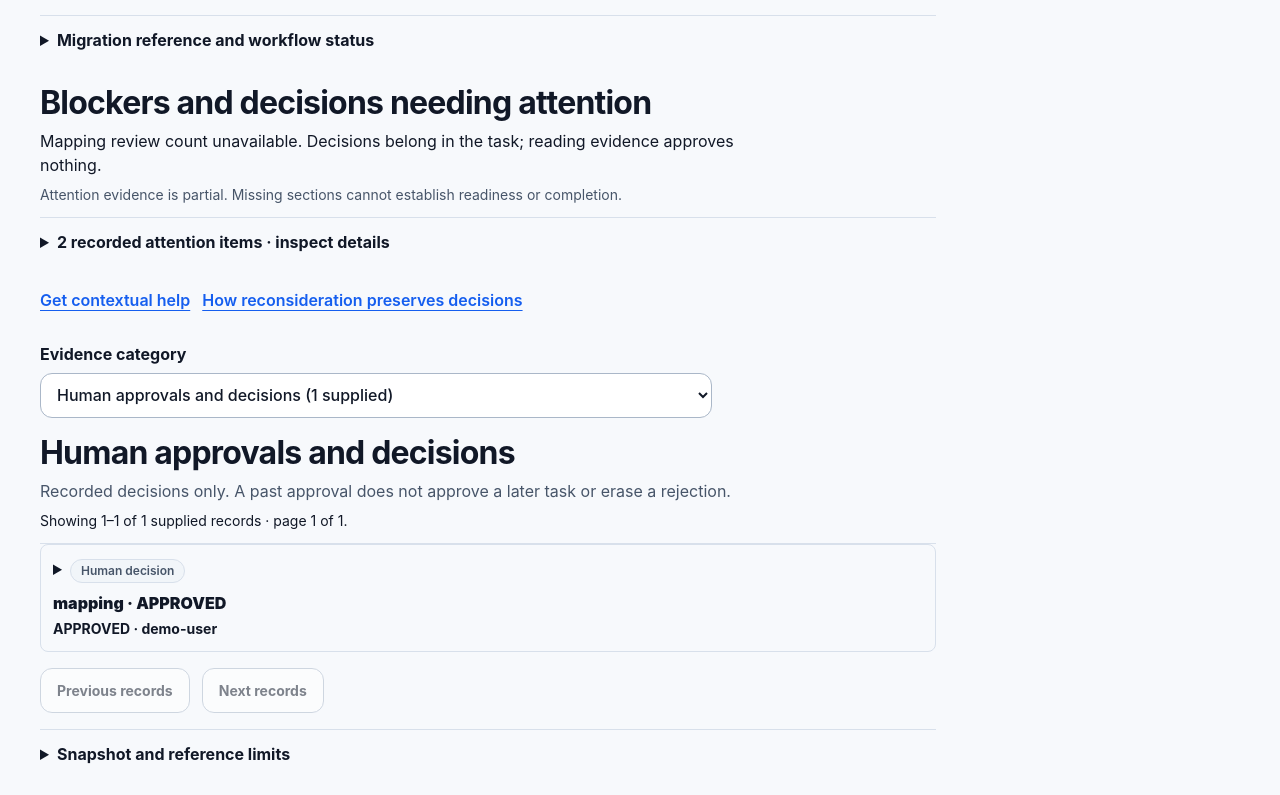
public surface contracts › shows actual Trust activity, decisions, tools and checks, but never hidden payload fields
(page scrolled)
Select "Agent activity and tools (1 supplied)" in the dropdown labelled "Evidence category". click: x=376, y=395
box: left=40, top=373, right=712, bottom=418
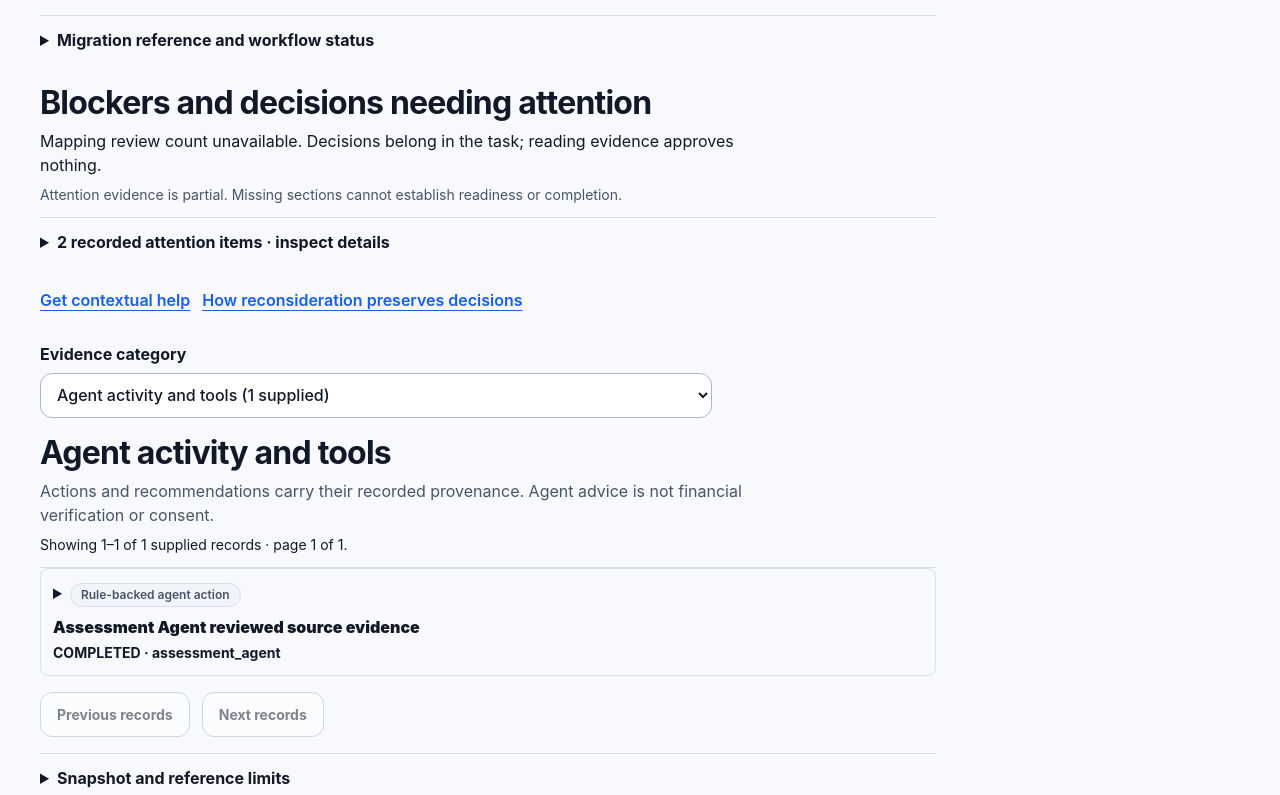
Expected: the text "Assessment Agent reviewed source evidence" is shown
Click the text "Assessment Agent reviewed source evidence". click: x=236, y=627
box: left=53, top=617, right=420, bottom=637
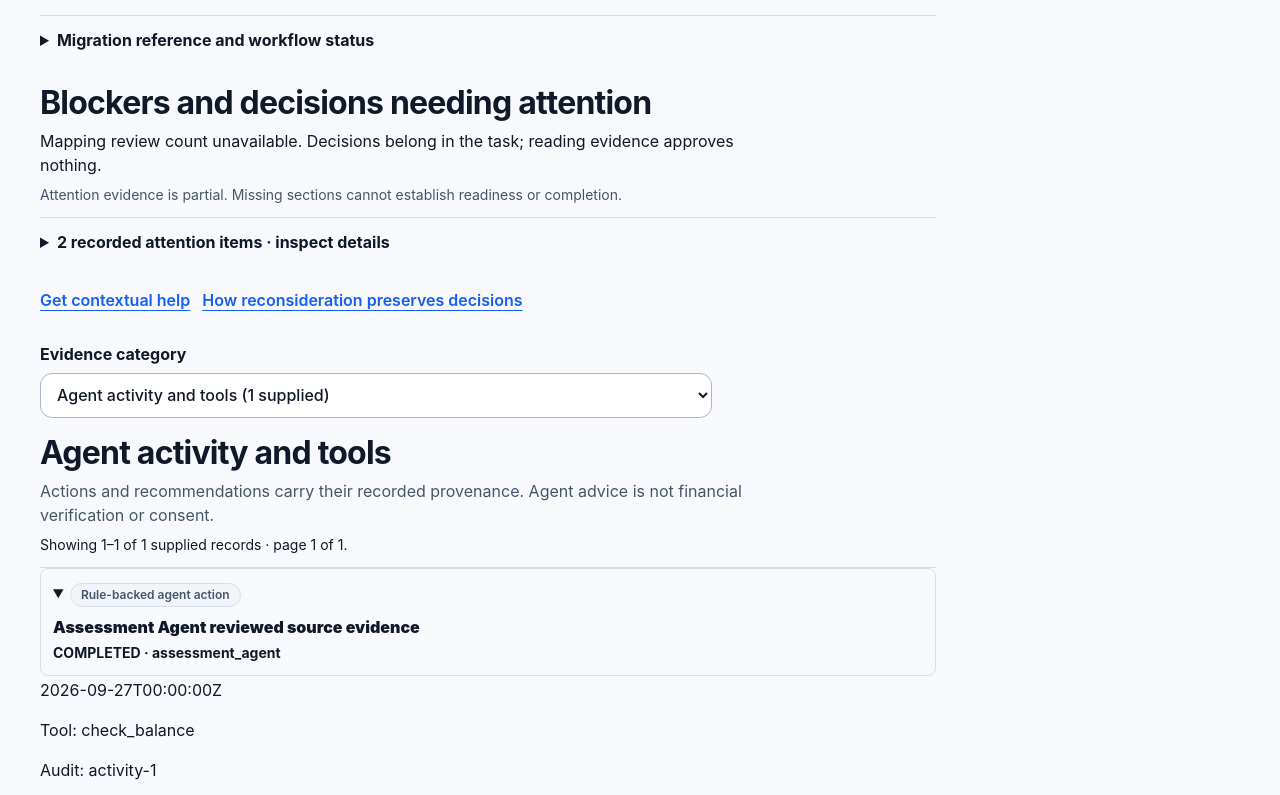
Expected: the text "Tool: check_balance" is shown, left=40, top=720, right=195, bottom=740
